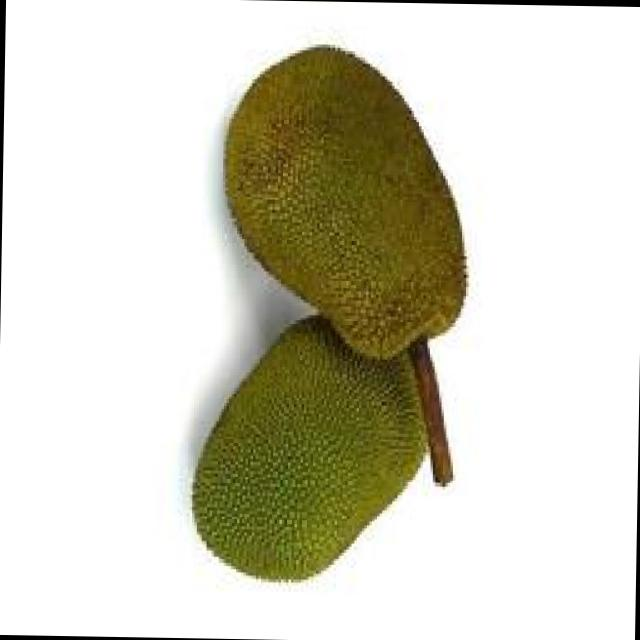Fruit: (197, 26, 488, 382), (170, 284, 456, 606)
